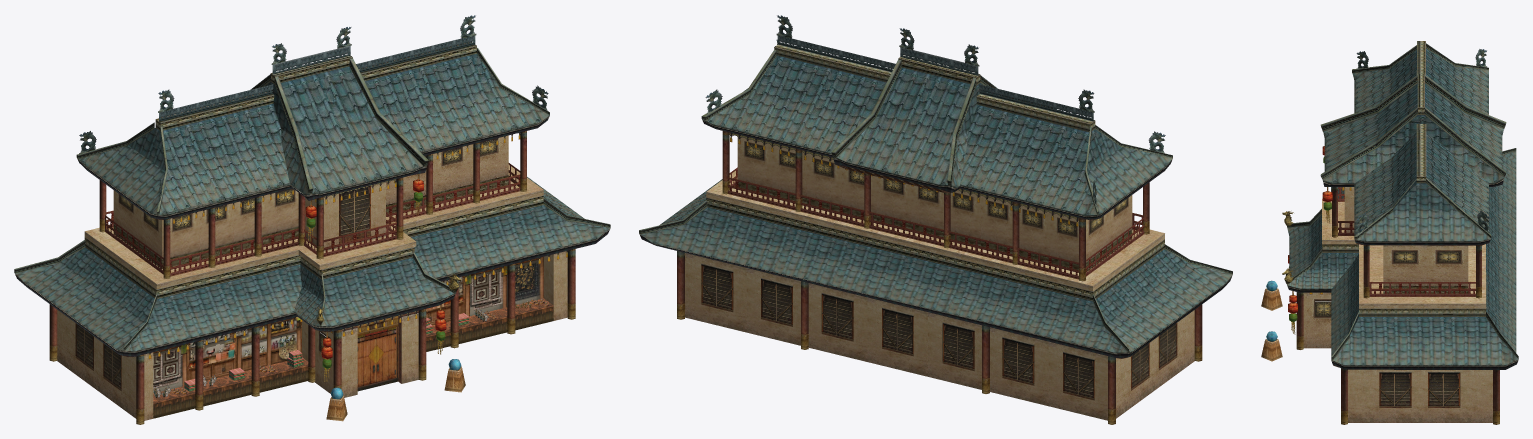
Rendered from w_cd_luxu.glb.
3 views of the same model, side by side, from view 1: azimuth 30°, elevation 25°; view 2: azimuth 150°, elevation 25°; view 3: azimuth 270°, elevation 25° (orthographic). The views are drawn at different scales.
Visible parts, largest first — view 1: w_cd_luxu_roof, w_cd_luxu_wall, w_cd_luxu_column, w_cd_luxu_ornament02, w_cd_luxu_deco, w_cd_luxu_ornament, w_cd_luxu_handrail, w_cd_luxu_roof02, w_cd_luxu_winlight, w_cd_luxu_light; view 2: w_cd_luxu_roof, w_cd_luxu_wall, w_cd_luxu_handrail, w_cd_luxu_deco, w_cd_luxu_column, w_cd_luxu_roof02, w_cd_luxu_winlight; view 3: w_cd_luxu_roof, w_cd_luxu_wall, w_cd_luxu_column, w_cd_luxu_handrail, w_cd_luxu_deco, w_cd_luxu_winlight, w_cd_luxu_roof02, w_cd_luxu_light.
Boxes of the visible parts, <box> form: w_cd_luxu_roof: <box>14,42,610,357</box>; w_cd_luxu_wall: <box>57,135,567,420</box>; w_cd_luxu_column: <box>49,131,575,424</box>; w_cd_luxu_ornament02: <box>153,256,543,393</box>; w_cd_luxu_deco: <box>105,132,567,358</box>; w_cd_luxu_ornament: <box>153,298,553,418</box>; w_cd_luxu_handrail: <box>75,186,398,391</box>; w_cd_luxu_roof02: <box>79,15,548,203</box>; w_cd_luxu_winlight: <box>119,139,496,350</box>; w_cd_luxu_light: <box>305,174,446,381</box>; w_cd_luxu_roof: <box>639,44,1232,358</box>; w_cd_luxu_wall: <box>685,137,1194,420</box>; w_cd_luxu_handrail: <box>701,263,1177,400</box>; w_cd_luxu_deco: <box>728,132,1144,279</box>; w_cd_luxu_column: <box>677,131,1202,424</box>; w_cd_luxu_roof02: <box>705,15,1165,209</box>; w_cd_luxu_winlight: <box>745,142,1127,235</box>; w_cd_luxu_roof: <box>1287,41,1518,369</box>; w_cd_luxu_wall: <box>1303,187,1492,422</box>; w_cd_luxu_column: <box>1261,187,1499,424</box>; w_cd_luxu_handrail: <box>1379,371,1460,407</box>; w_cd_luxu_deco: <box>1282,187,1475,296</box>; w_cd_luxu_winlight: <box>1314,251,1460,316</box>; w_cd_luxu_roof02: <box>1356,49,1489,234</box>; w_cd_luxu_light: <box>1288,146,1332,334</box>.
Bounding box in the file's own units: 42.67 × 25.28 × 22.07.
11 materials, 11 textured.
